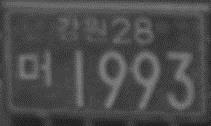1: (64, 49, 92, 106)
2: (111, 16, 131, 45)
3: (165, 49, 196, 111)
8: (134, 16, 154, 44)
9: (131, 49, 161, 108), (99, 49, 127, 110)
강원_O: (54, 15, 109, 44)
머: (18, 50, 52, 86)
